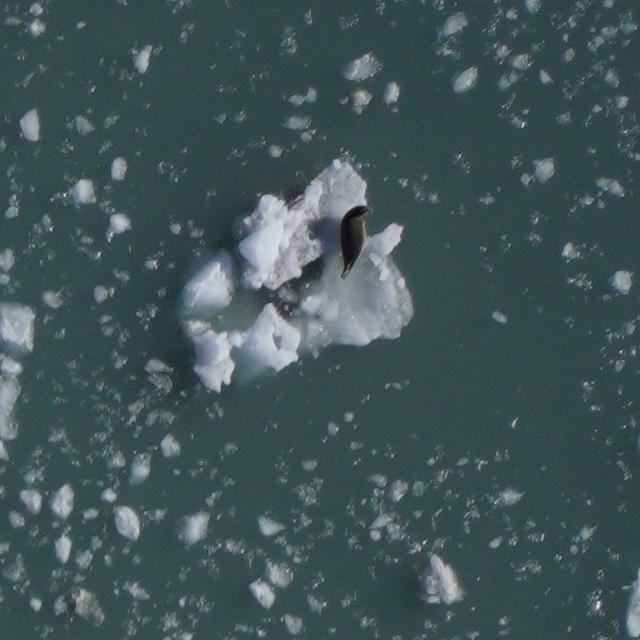seal: (334, 200, 379, 284)
